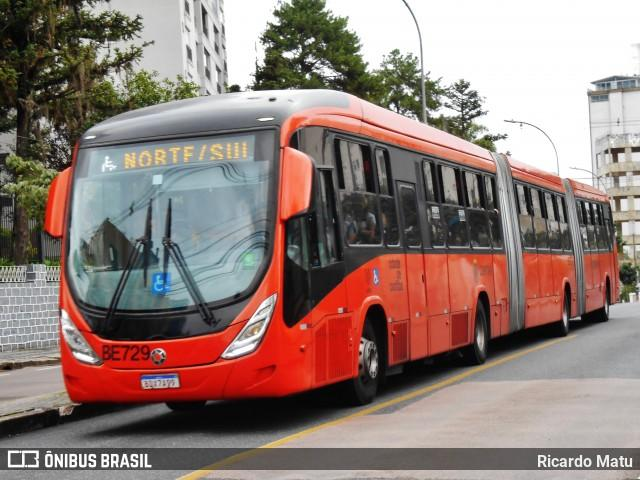NORTE SUL: (118, 136, 255, 172)
